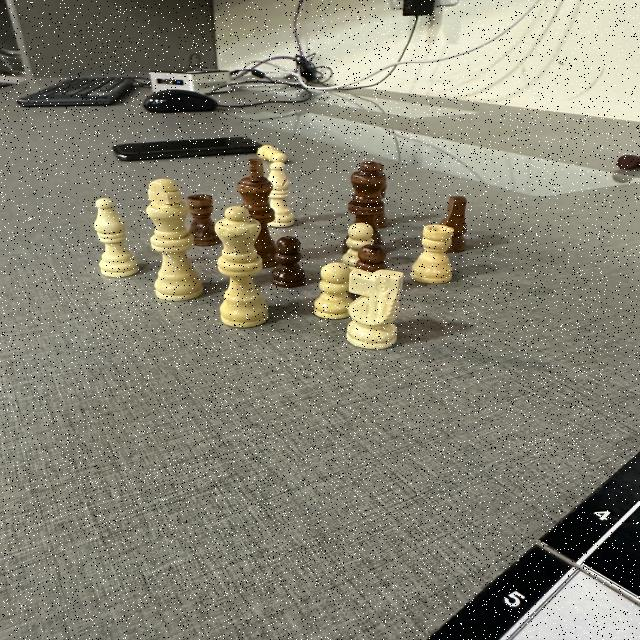Black-Bishop: (378, 162, 386, 230)
Black-King: (238, 158, 278, 268)
Black-Knight: (442, 196, 466, 226)
Black-Pawn: (270, 236, 306, 288), (356, 243, 386, 270)
Black-Queen: (348, 161, 386, 223)
Black-Rook: (186, 194, 222, 246)
White-Bishop: (94, 198, 140, 278), (265, 162, 295, 228)
White-King: (144, 178, 204, 302)
White-Knight: (346, 268, 404, 350)
White-Pawn: (312, 262, 350, 320), (342, 223, 374, 267), (257, 145, 287, 163)
White-Queen: (214, 205, 270, 328)
White-Rook: (411, 224, 455, 284)
